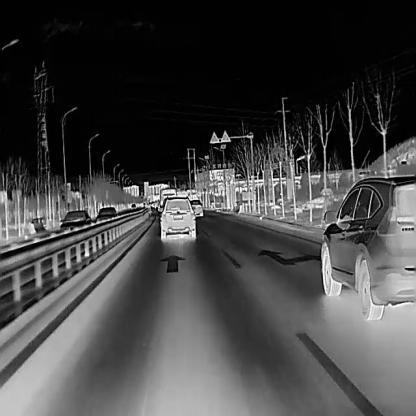car: (320, 172, 415, 319), (160, 195, 195, 241), (59, 208, 91, 240), (94, 207, 116, 230), (189, 198, 202, 216), (130, 202, 135, 209)
